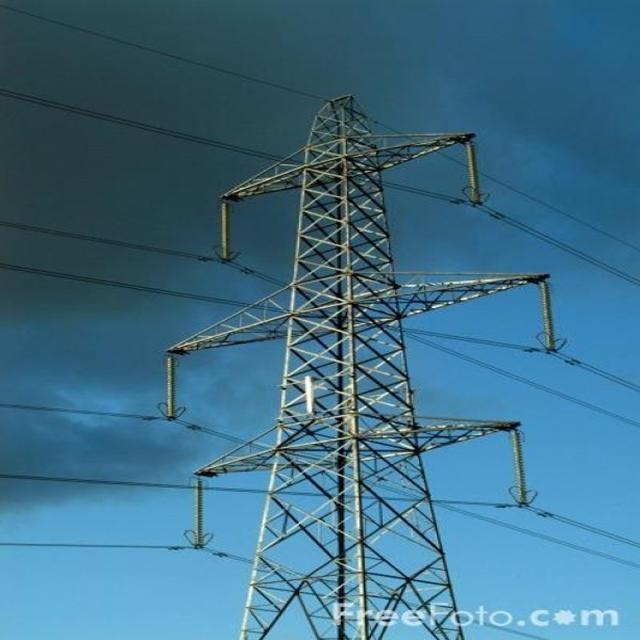non-critical vegetation: (184, 94, 528, 629)
